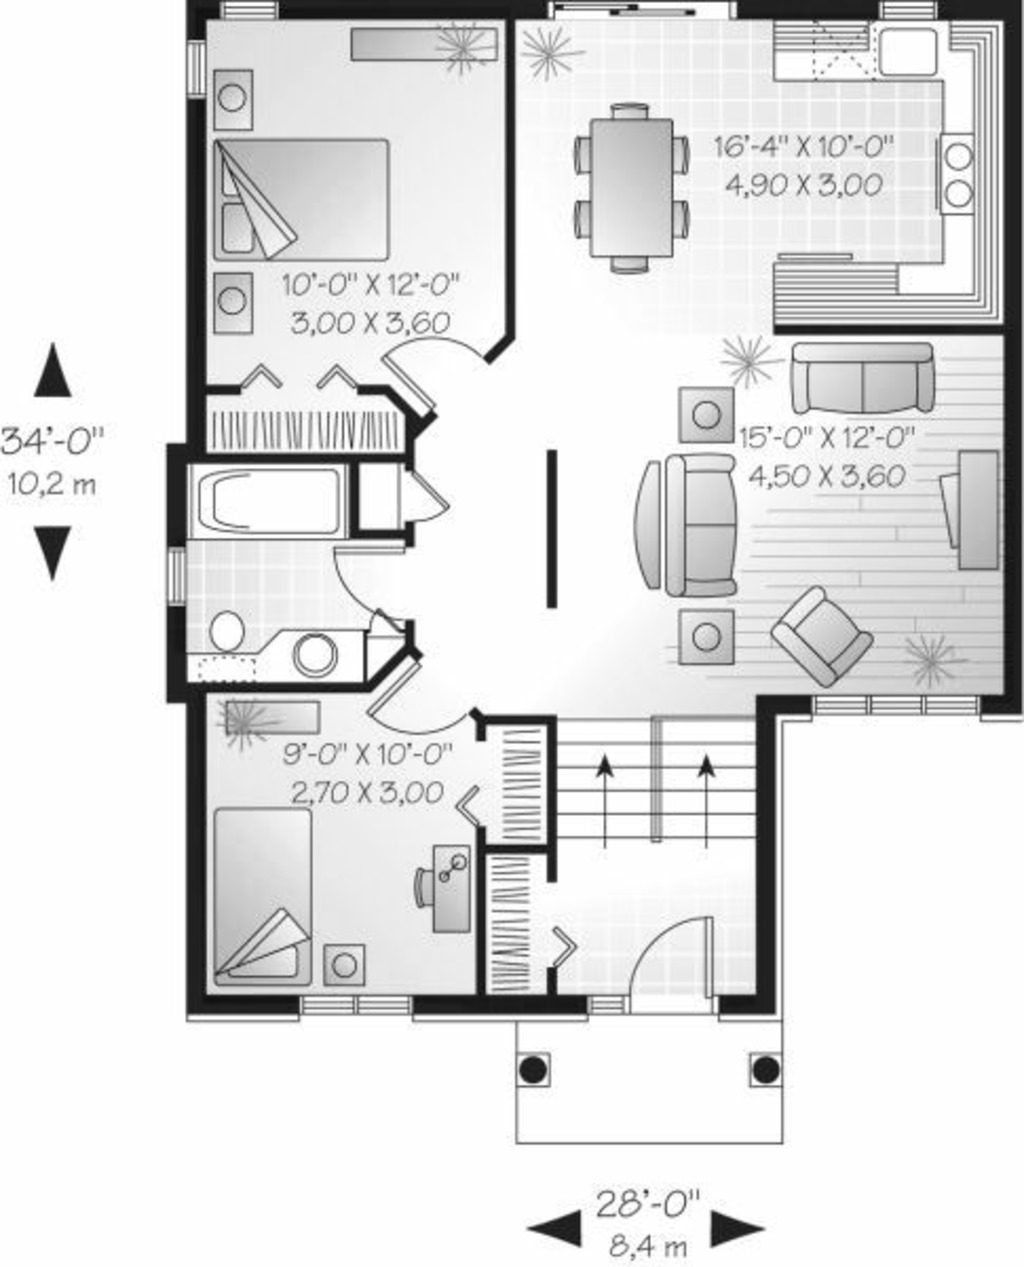bed: (202, 131, 406, 264), (210, 803, 311, 985)
dining-table: (556, 81, 699, 288)
door: (624, 914, 723, 1017), (373, 337, 492, 417), (365, 662, 478, 742), (330, 541, 421, 621), (397, 466, 456, 527)
large_sofa: (638, 446, 749, 606), (790, 337, 952, 422)
sink: (878, 17, 944, 76)
small_sink: (272, 629, 351, 691)
small_sofa: (760, 574, 880, 693)
stairs: (540, 703, 777, 875)
tub: (185, 463, 342, 539)
window: (813, 693, 980, 728), (298, 988, 417, 1020), (152, 543, 203, 593)
